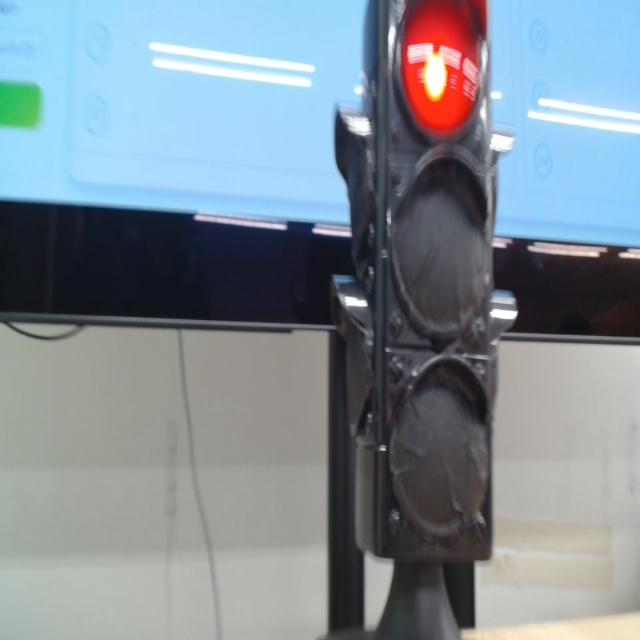red_light: (402, 0, 480, 136)
